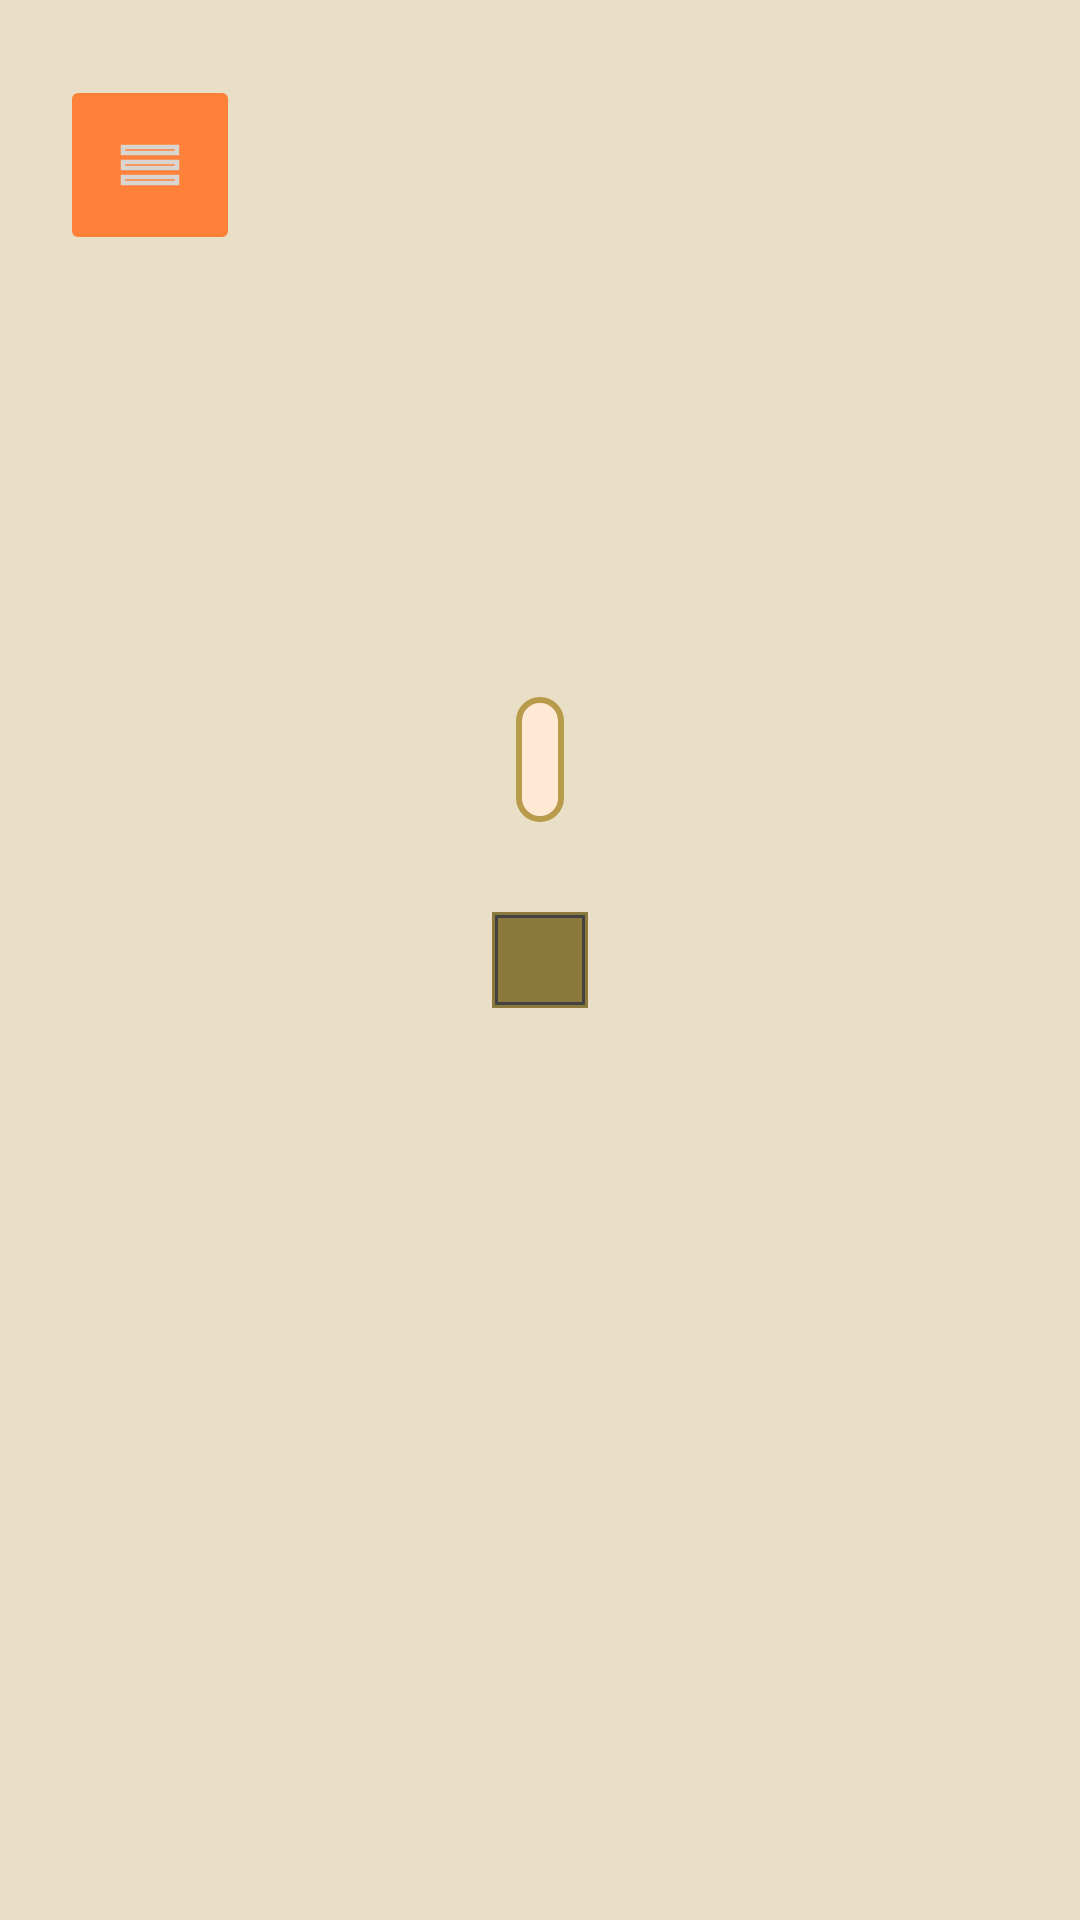

Where to tap for icons on this 1080w x 1920h app screen, as (x=x, y=y):
menu: (x=150, y=165)
